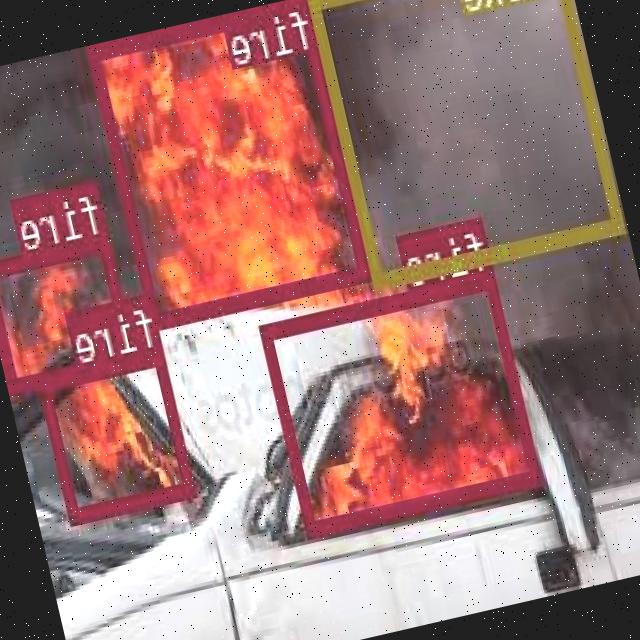fire: (90, 0, 373, 327), (261, 270, 543, 535), (40, 344, 197, 518), (0, 232, 139, 389)
smoke: (308, 0, 627, 287)
